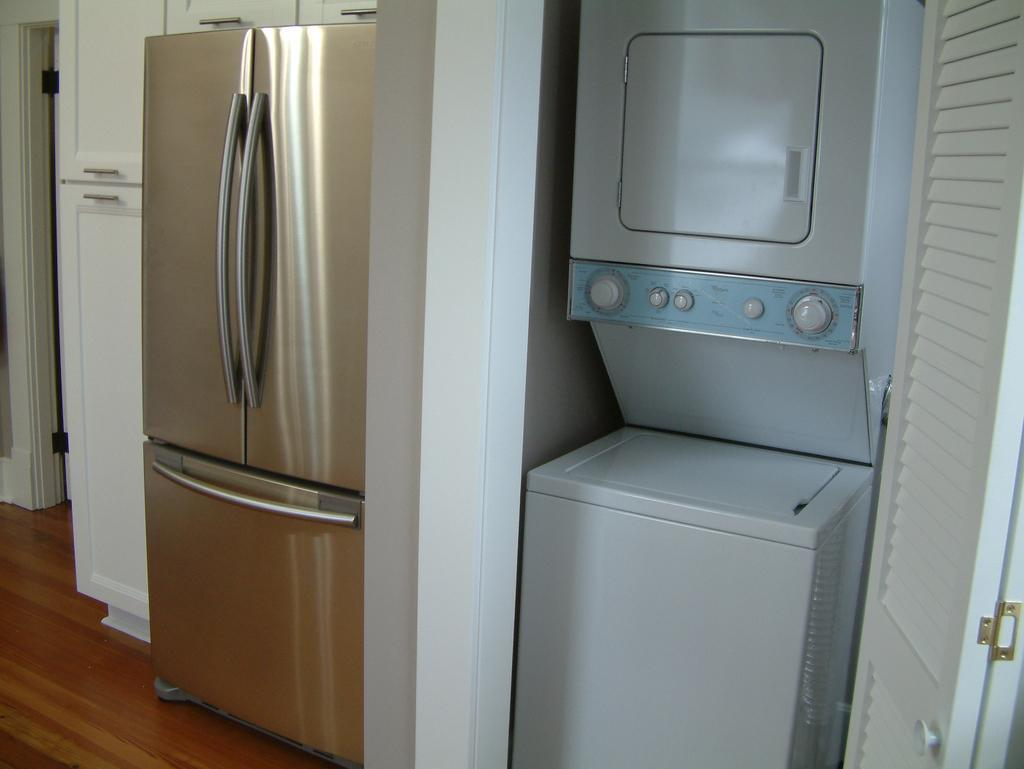door: (932, 47, 1024, 769)
handle: (914, 708, 944, 755)
